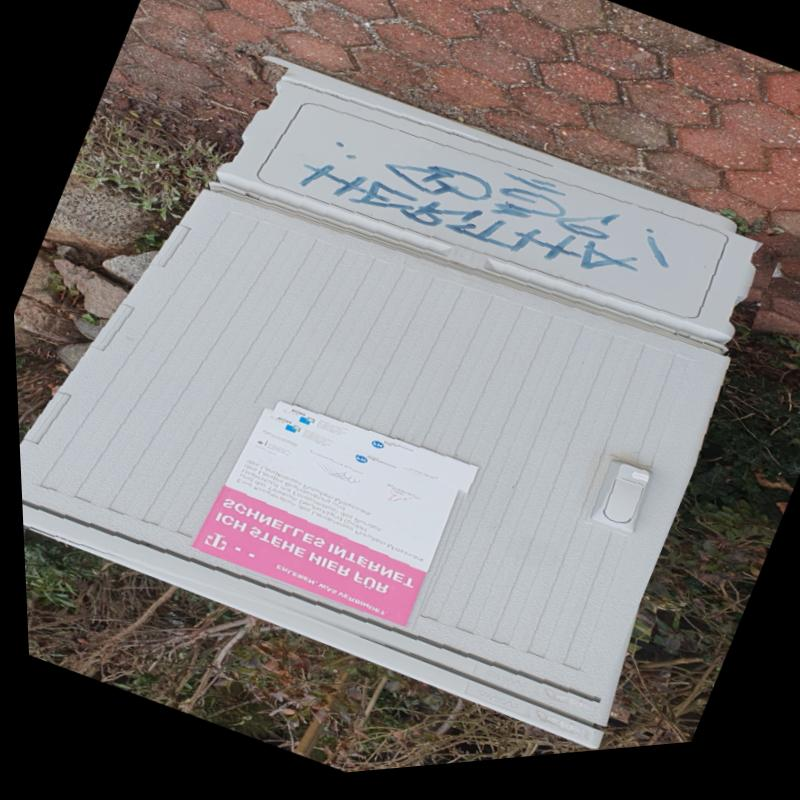NT-Gehause: (1, 0, 795, 785)
Steaker: (177, 389, 473, 652)
